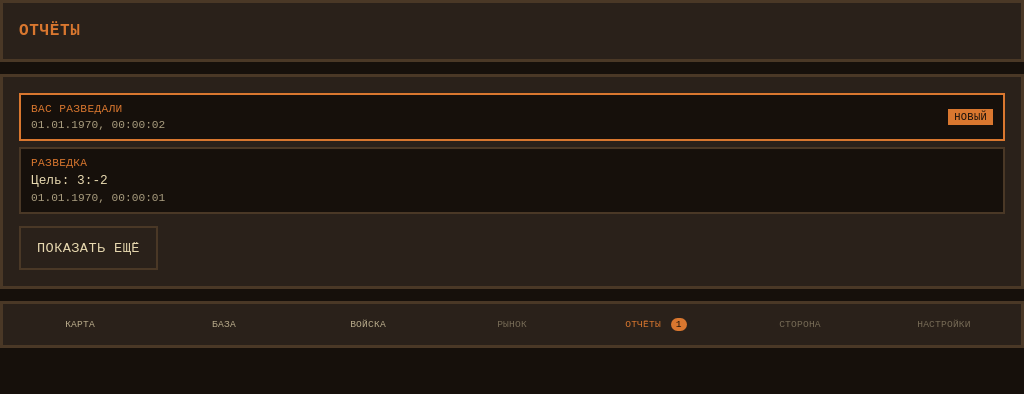
Scenario: ReportsScreen — list › renders reports newest-first with unread state visually distinct, and load more requests the next page with the returned cursor
expect the text "Вас разведали" is shown: met, box [31, 103, 123, 115]
expect the button with class "report-row" shows "Вас разведали": met, box [19, 93, 1005, 141]
What coordinates should you click on to do the following:
click the button "Показать ещё"
I would click on:
 (88, 248)
Its box is [19, 226, 158, 270].
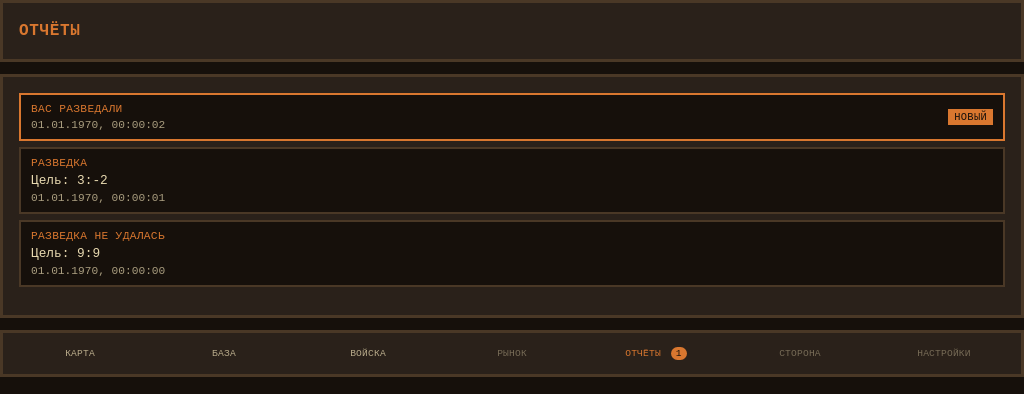
expect the text "Разведка не удалась" is shown: met, box [31, 230, 165, 242]
expect the button "Показать ещё" is gone: met
